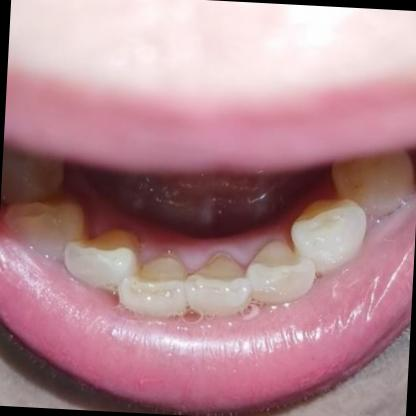Crowding: (185, 238, 317, 310), (64, 232, 185, 308)
